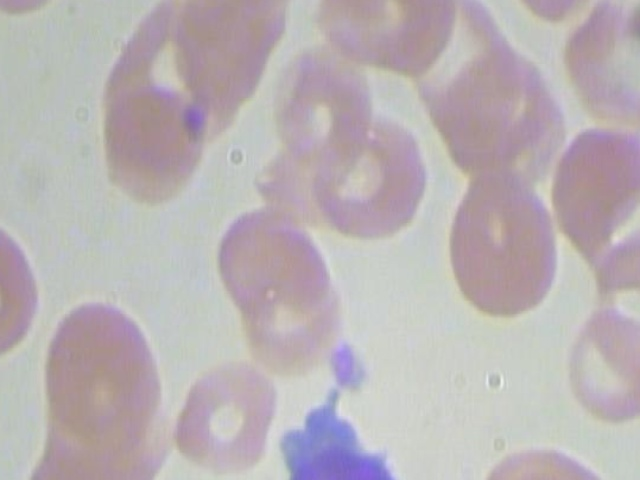Platelets: (323, 335, 375, 398)
RBC: (435, 165, 565, 321), (313, 109, 434, 243), (95, 82, 208, 209), (169, 354, 278, 476), (310, 0, 462, 79), (559, 0, 640, 135), (565, 304, 640, 431), (503, 0, 603, 22), (614, 471, 640, 480)
WBC: (266, 386, 428, 480)
